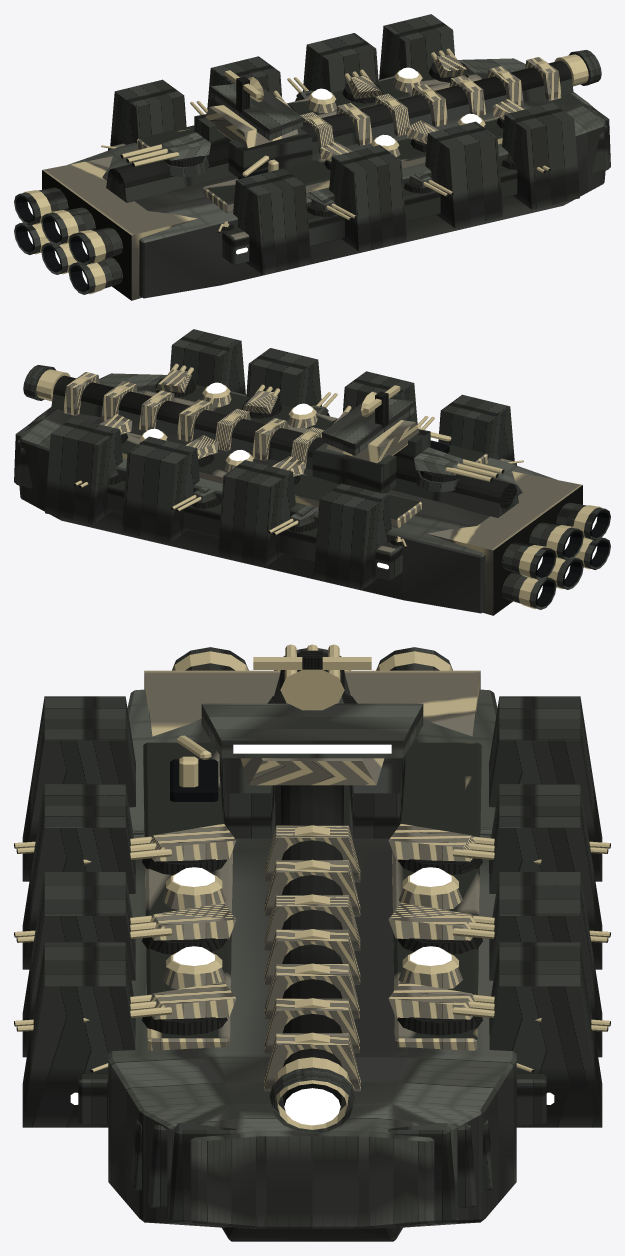
File: battleship.glb
3 renders of one model, top to bottom at view 1: azimuth 30°, elevation 25°; view 2: azimuth 150°, elevation 25°; view 3: azimuth 270°, elevation 25°, orthographic. The views are drawn at different scales.
Visible parts, largest first — view 1: hull_body, weapon_mounts, engine_block, sensor_tower, shield_domes; view 2: hull_body, weapon_mounts, engine_block, sensor_tower, shield_domes; view 3: hull_body, weapon_mounts, sensor_tower, engine_block, shield_domes.
Part boxes in pixels (x1=…): hull_body: x1=68, y1=14, x2=610, y2=298; weapon_mounts: x1=101, y1=48, x2=601, y2=232; engine_block: x1=14, y1=156, x2=197, y2=300; sensor_tower: x1=194, y1=70, x2=312, y2=177; shield_domes: x1=307, y1=67, x2=485, y2=156; hull_body: x1=14, y1=329, x2=556, y2=613; weapon_mounts: x1=23, y1=363, x2=523, y2=547; engine_block: x1=427, y1=471, x2=610, y2=615; sensor_tower: x1=312, y1=385, x2=430, y2=493; shield_domes: x1=139, y1=382, x2=317, y2=471; hull_body: x1=22, y1=689, x2=602, y2=1241; weapon_mounts: x1=14, y1=644, x2=610, y2=1133; sensor_tower: x1=201, y1=650, x2=423, y2=838; engine_block: x1=144, y1=647, x2=480, y2=736; shield_domes: x1=162, y1=867, x2=462, y2=989.
Size of the model in its own units: 60 by 16.55 by 30.65.
Materials: 1 (1 with a texture image).
